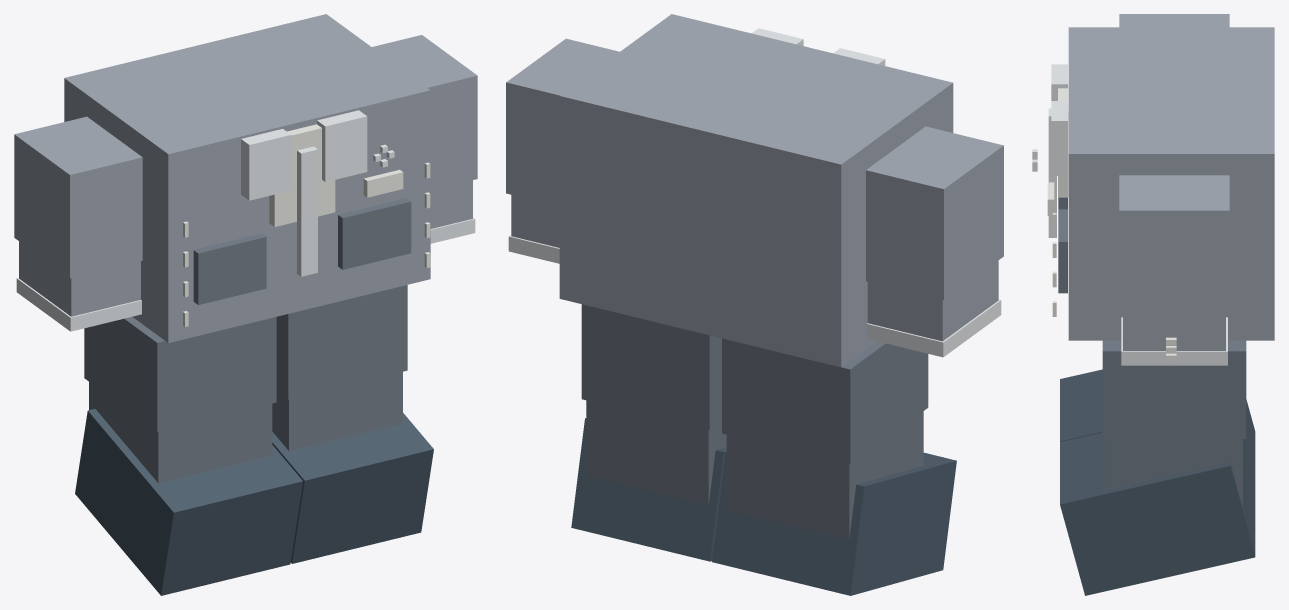
Rendered from business-slate.glb.
3 views of the same model, side by side, from view 1: azimuth 30°, elevation 25°; view 2: azimuth 150°, elevation 25°; view 3: azimuth 270°, elevation 25° (orthographic). The views are drawn at different scales.
Visible parts, largest first — view 1: jacket, shoe-Right, upper-sleeve-Right, trouser-Right, shoe-Left, trouser-Left, lower-trouser-Right, upper-sleeve-Left, lower-trouser-Left, lower-sleeve-Right, pocket--1, pocket-1 (+8 smaller); view 2: jacket, upper-sleeve-Right, trouser-Right, shoe-Right, trouser-Left, lower-trouser-Right, lower-trouser-Left, upper-sleeve-Left, shoe-Left, lower-sleeve-Right, cuff-Right, lower-sleeve-Left (+1 smaller); view 3: jacket, shoe-Left, upper-sleeve-Left, trouser-Left, lower-trouser-Left, lower-sleeve-Left, shoe-Right, cuff-Left, upper-sleeve-Right, lapel-1, pocket-1, tie (+2 smaller).
Part boxes in pixels (box(x1,y1,x2,y2)): jacket: box(64, 14, 430, 342); shoe-Right: box(75, 409, 302, 595); upper-sleeve-Right: box(14, 116, 142, 278); trouser-Right: box(84, 317, 276, 431); shoe-Left: box(272, 413, 433, 563); trouser-Left: box(276, 285, 407, 399); lower-trouser-Right: box(89, 382, 272, 482); upper-sleeve-Left: box(372, 35, 477, 190); lower-trouser-Left: box(272, 372, 402, 451); lower-sleeve-Right: box(19, 241, 140, 316); pocket--1: box(193, 233, 266, 304); pocket-1: box(338, 198, 411, 269); jacket: box(559, 14, 953, 367); upper-sleeve-Right: box(866, 126, 1003, 300); trouser-Right: box(722, 338, 928, 464); shoe-Right: box(712, 452, 956, 595); trouser-Left: box(581, 304, 721, 430); lower-trouser-Right: box(726, 411, 923, 539); lower-trouser-Left: box(586, 400, 726, 505); upper-sleeve-Left: box(506, 38, 619, 206); shoe-Left: box(571, 418, 726, 561); lower-sleeve-Right: box(867, 260, 998, 341); cuff-Right: box(867, 299, 1001, 357); lower-sleeve-Left: box(511, 195, 559, 247); jacket: box(1068, 27, 1274, 340); shoe-Left: box(1060, 432, 1255, 595); upper-sleeve-Left: box(1119, 175, 1229, 312); trouser-Left: box(1102, 340, 1246, 438); lower-trouser-Left: box(1106, 439, 1242, 507); lower-sleeve-Left: box(1123, 312, 1225, 350); shoe-Right: box(1060, 369, 1255, 493); cuff-Left: box(1121, 317, 1227, 365); upper-sleeve-Right: box(1119, 14, 1229, 27); lapel-1: box(1051, 101, 1067, 175); pocket-1: box(1058, 209, 1067, 293); tie: box(1048, 108, 1056, 237).
Bounding box in the file's own units: 1.08 × 1.13 × 0.559.
